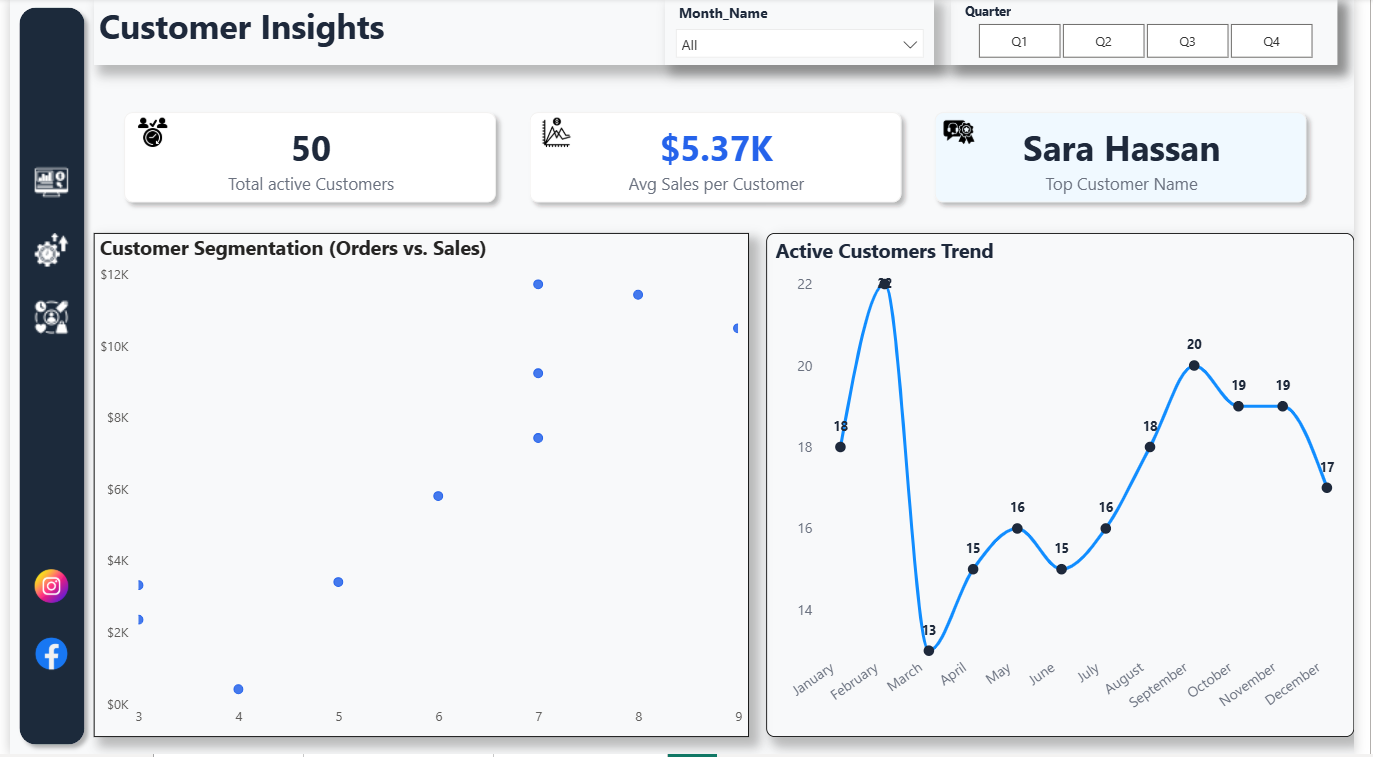

What the dashboard file says about the page in this screenshot:
{"tool":"powerbi","page":{"name":"Customer Insights","canvas":[1280,720],"ordinal":2},"visuals":[{"type":"shape","box":[0,0,80,720],"z":0},{"type":"textbox","box":[80,0,1184,64],"z":1000},{"type":"cardVisual","fields":{"Data":["_Measure.Total active Customers","_Measure.Avg Sales per Customer","_Measure.Top Customer name"]},"box":[80,80,1184,144],"z":2000},{"type":"slicer","fields":{"Values":["Dim_Date.Quarter"]},"box":[896,0,368,64],"z":3000},{"type":"slicer","fields":{"Values":["Dim_Date.Month_Name"]},"box":[624,0,256,64],"z":4000},{"type":"image","box":[112,112,48,32],"z":5000},{"type":"image","box":[496,112,48,32],"z":6000},{"type":"image","box":[880,112,48,32],"z":7000},{"type":"scatterChart","title":"Customer Segmentation (Orders vs. Sales)","fields":{"Category":["Customers_Data.Full_Name"],"X":["_Measure.Total Orders"],"Y":["_Measure.Total Sales"]},"box":[80,224,624,480],"z":7001},{"type":"lineChart","title":"Active Customers Trend","fields":{"Category":["Dim_Date.Month_Name"],"Y":["_Measure.Total active Customers"]},"box":[720,224,560,480],"z":7002},{"type":"image","box":[16,288,48,32],"z":7003},{"type":"image","box":[16,224,48,32],"z":7004},{"type":"image","box":[16,160,48,32],"z":7005},{"type":"image","box":[16,544,48,32],"z":7006},{"type":"image","box":[16,608,48,32],"z":7007}]}

Visuals, with their boxes on the page's 1280x720 design canvas (x1, y1, x2, y2). These are canvas units, not pixel positions in the 1373x757 screenshot, which may show the page scaled, cropped or inside an application window:
shape: <region>0, 0, 80, 720</region>
textbox: <region>80, 0, 1264, 64</region>
cardVisual - _Measure.Total active Customers x _Measure.Avg Sales per Customer: <region>80, 80, 1264, 224</region>
slicer - Dim_Date.Quarter: <region>896, 0, 1264, 64</region>
slicer - Dim_Date.Month_Name: <region>624, 0, 880, 64</region>
image: <region>112, 112, 160, 144</region>
image: <region>496, 112, 544, 144</region>
image: <region>880, 112, 928, 144</region>
"Customer Segmentation (Orders vs. Sales)" scatterChart: <region>80, 224, 704, 704</region>
"Active Customers Trend" lineChart: <region>720, 224, 1280, 704</region>
image: <region>16, 288, 64, 320</region>
image: <region>16, 224, 64, 256</region>
image: <region>16, 160, 64, 192</region>
image: <region>16, 544, 64, 576</region>
image: <region>16, 608, 64, 640</region>
